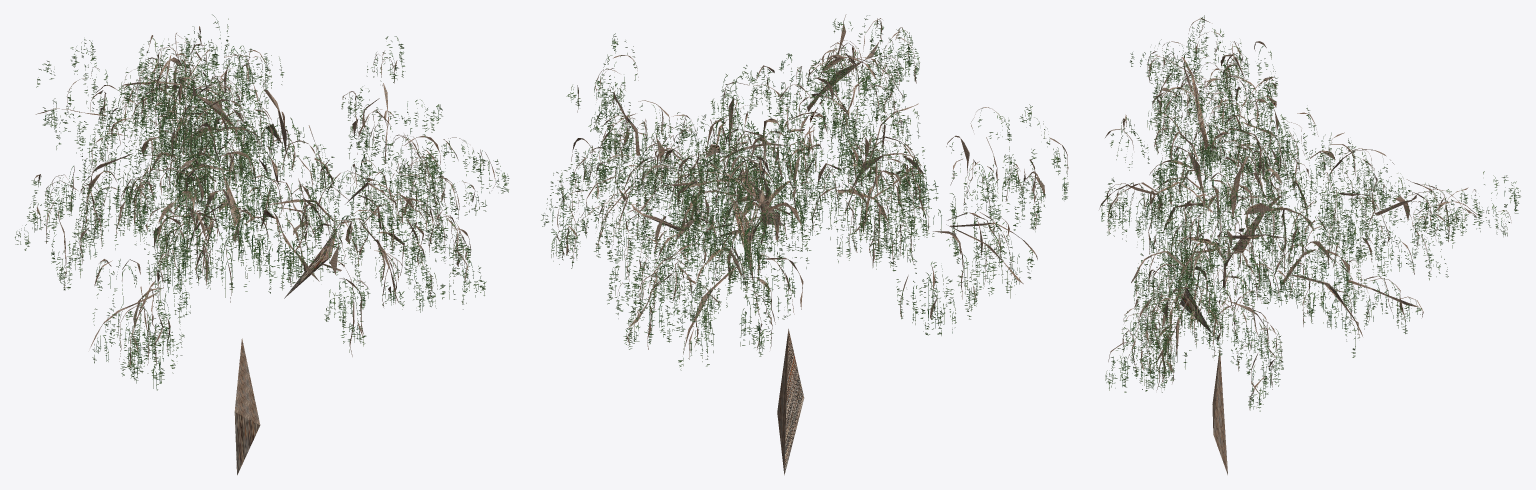
The model's file is molle.glb.
The picture shows the model from 3 angles, left to right: view 1: azimuth 30°, elevation 25°; view 2: azimuth 150°, elevation 25°; view 3: azimuth 270°, elevation 25°; orthographic projection. The views are drawn at different scales.
Visible parts, largest first — view 1: molle; view 2: molle; view 3: molle.
Boxes of the visible parts, box(x1,y1,x2,y2) form: molle: box(15, 14, 509, 475); molle: box(541, 14, 1068, 475); molle: box(1099, 15, 1520, 474).
Bounding box in the file's own units: 8.66 × 7.85 × 7.28.
Materials: 25 (25 with a texture image).
